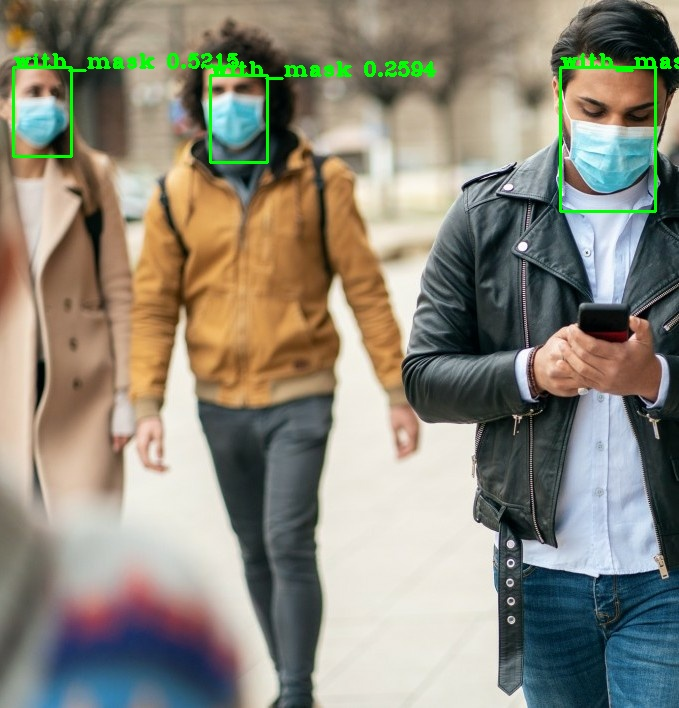with_mask: (545, 11, 679, 196), (178, 41, 287, 162), (2, 51, 91, 167)
